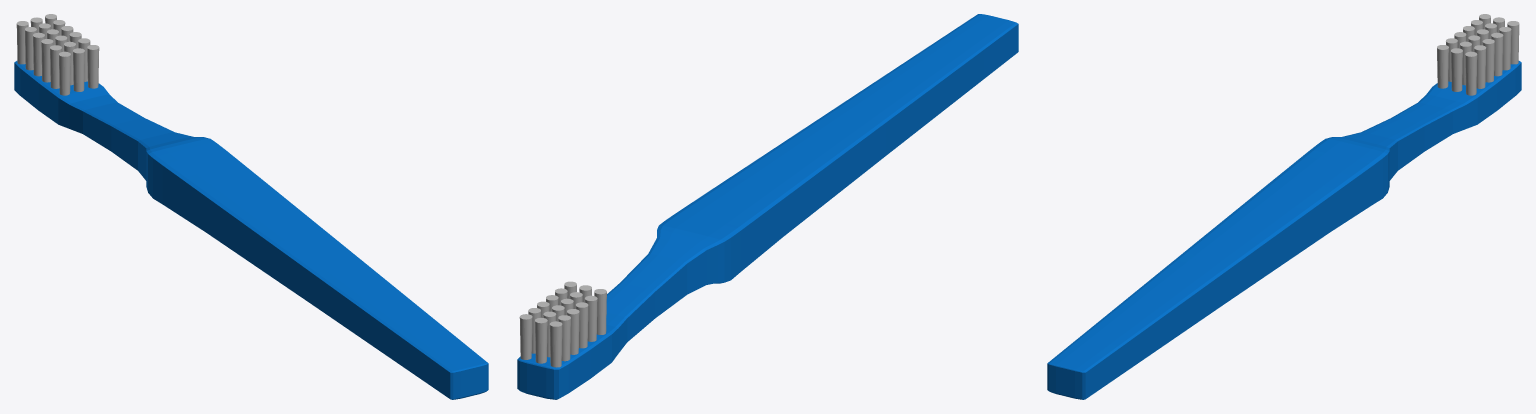
The model's file is toothbrush_0.glb.
3 views of the same model, side by side, from view 1: azimuth 30°, elevation 25°; view 2: azimuth 150°, elevation 25°; view 3: azimuth 330°, elevation 25° (orthographic). The views are drawn at different scales.
Visible parts, largest first — view 1: be548013c2a94e6e86c2cec5a424a2e5; view 2: be548013c2a94e6e86c2cec5a424a2e5; view 3: be548013c2a94e6e86c2cec5a424a2e5.
Boxes of the visible parts, x1,y1,x2,y2 form: be548013c2a94e6e86c2cec5a424a2e5: [14, 14, 488, 399]; be548013c2a94e6e86c2cec5a424a2e5: [517, 14, 1018, 399]; be548013c2a94e6e86c2cec5a424a2e5: [1047, 14, 1521, 399].
Size of the model in its own units: 0.0835 by 0.0875 by 1.
